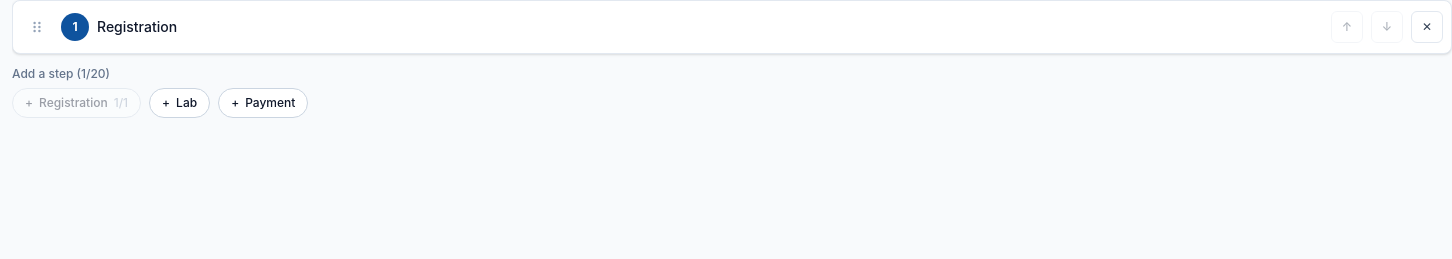
Test: JourneyBuilder › only offers additions that keep the journey valid
Expected: the button with aria-label "Add Registration" is disabled, [12,88,141,118]
Click the button with aria-label "Add Lab".
click(180, 103)  # box [149,88,210,118]
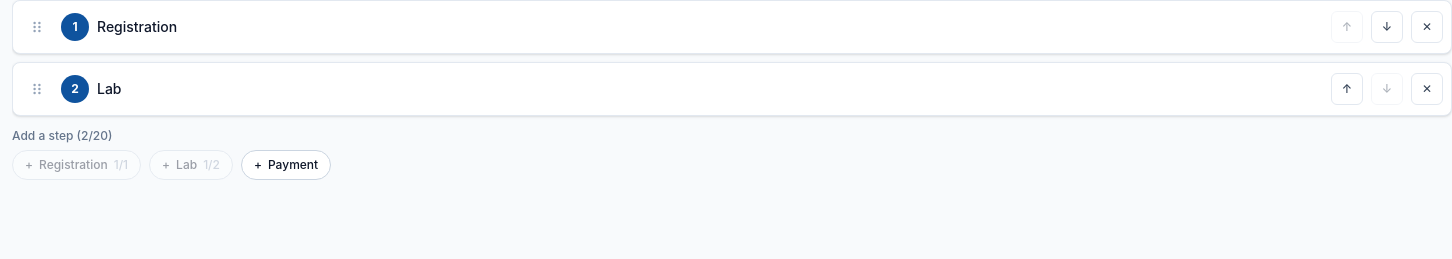
Expected: the button with aria-label "Add Lab" is disabled, [149,150,233,180]
Click the button with aria-label "Add Payment".
click(286, 165)  # box [241,150,331,180]
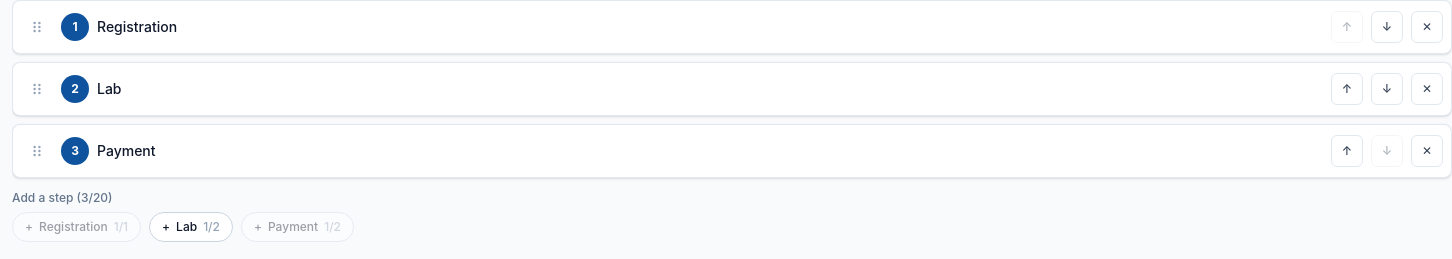
Expected: the button with aria-label "Add Lab" is enabled, [149,212,233,242]
